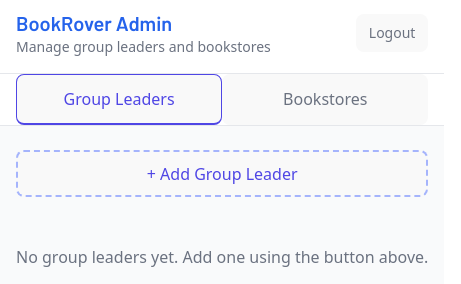
Test: AdminPage › switches to Bookstores tab on click
Click the button "Bookstores" at (325, 100), box x1=222 y1=74 x2=428 y2=125
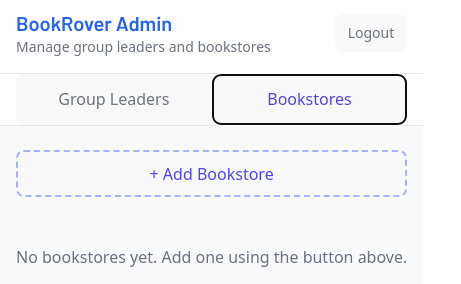
Expected: the button "+ Add Bookstore" is shown, x1=16 y1=150 x2=407 y2=197
